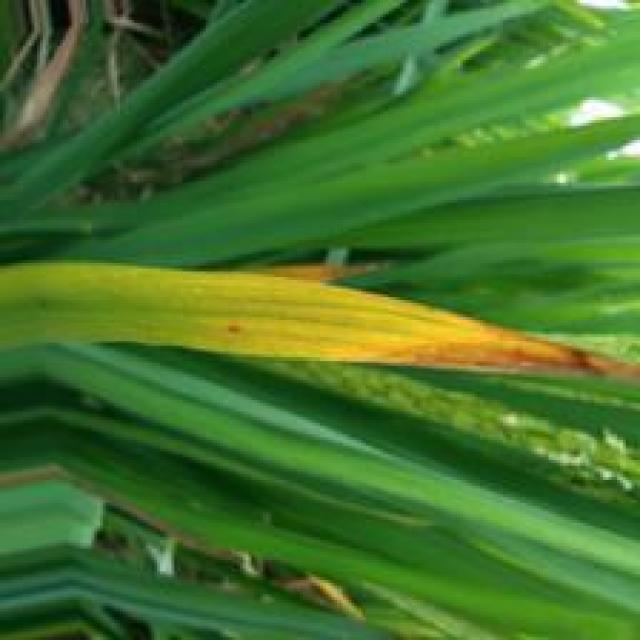Leaf_Scald: (357, 317, 634, 385)
